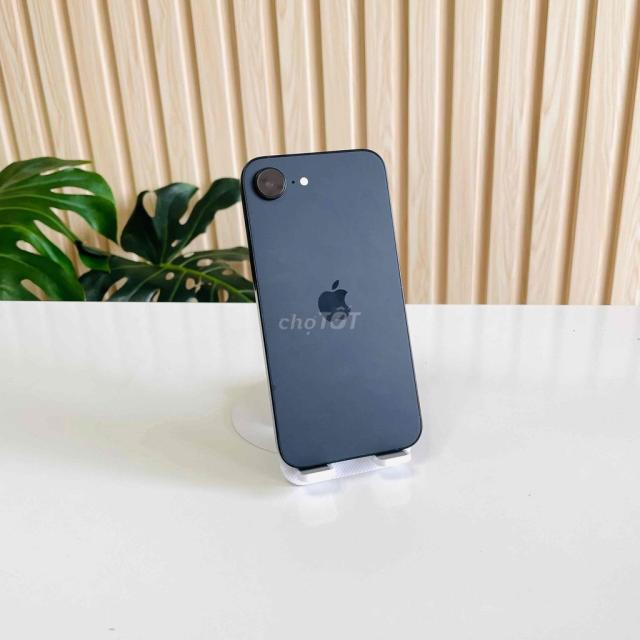gen_16: (242, 149, 421, 468)
